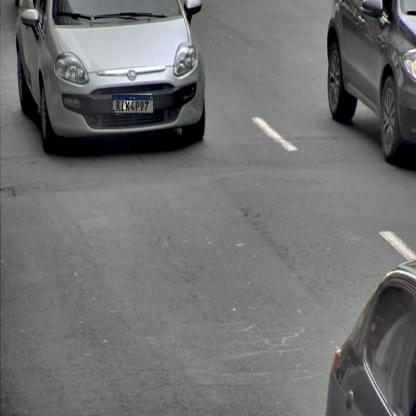PlacaM: (112, 95, 154, 114)
